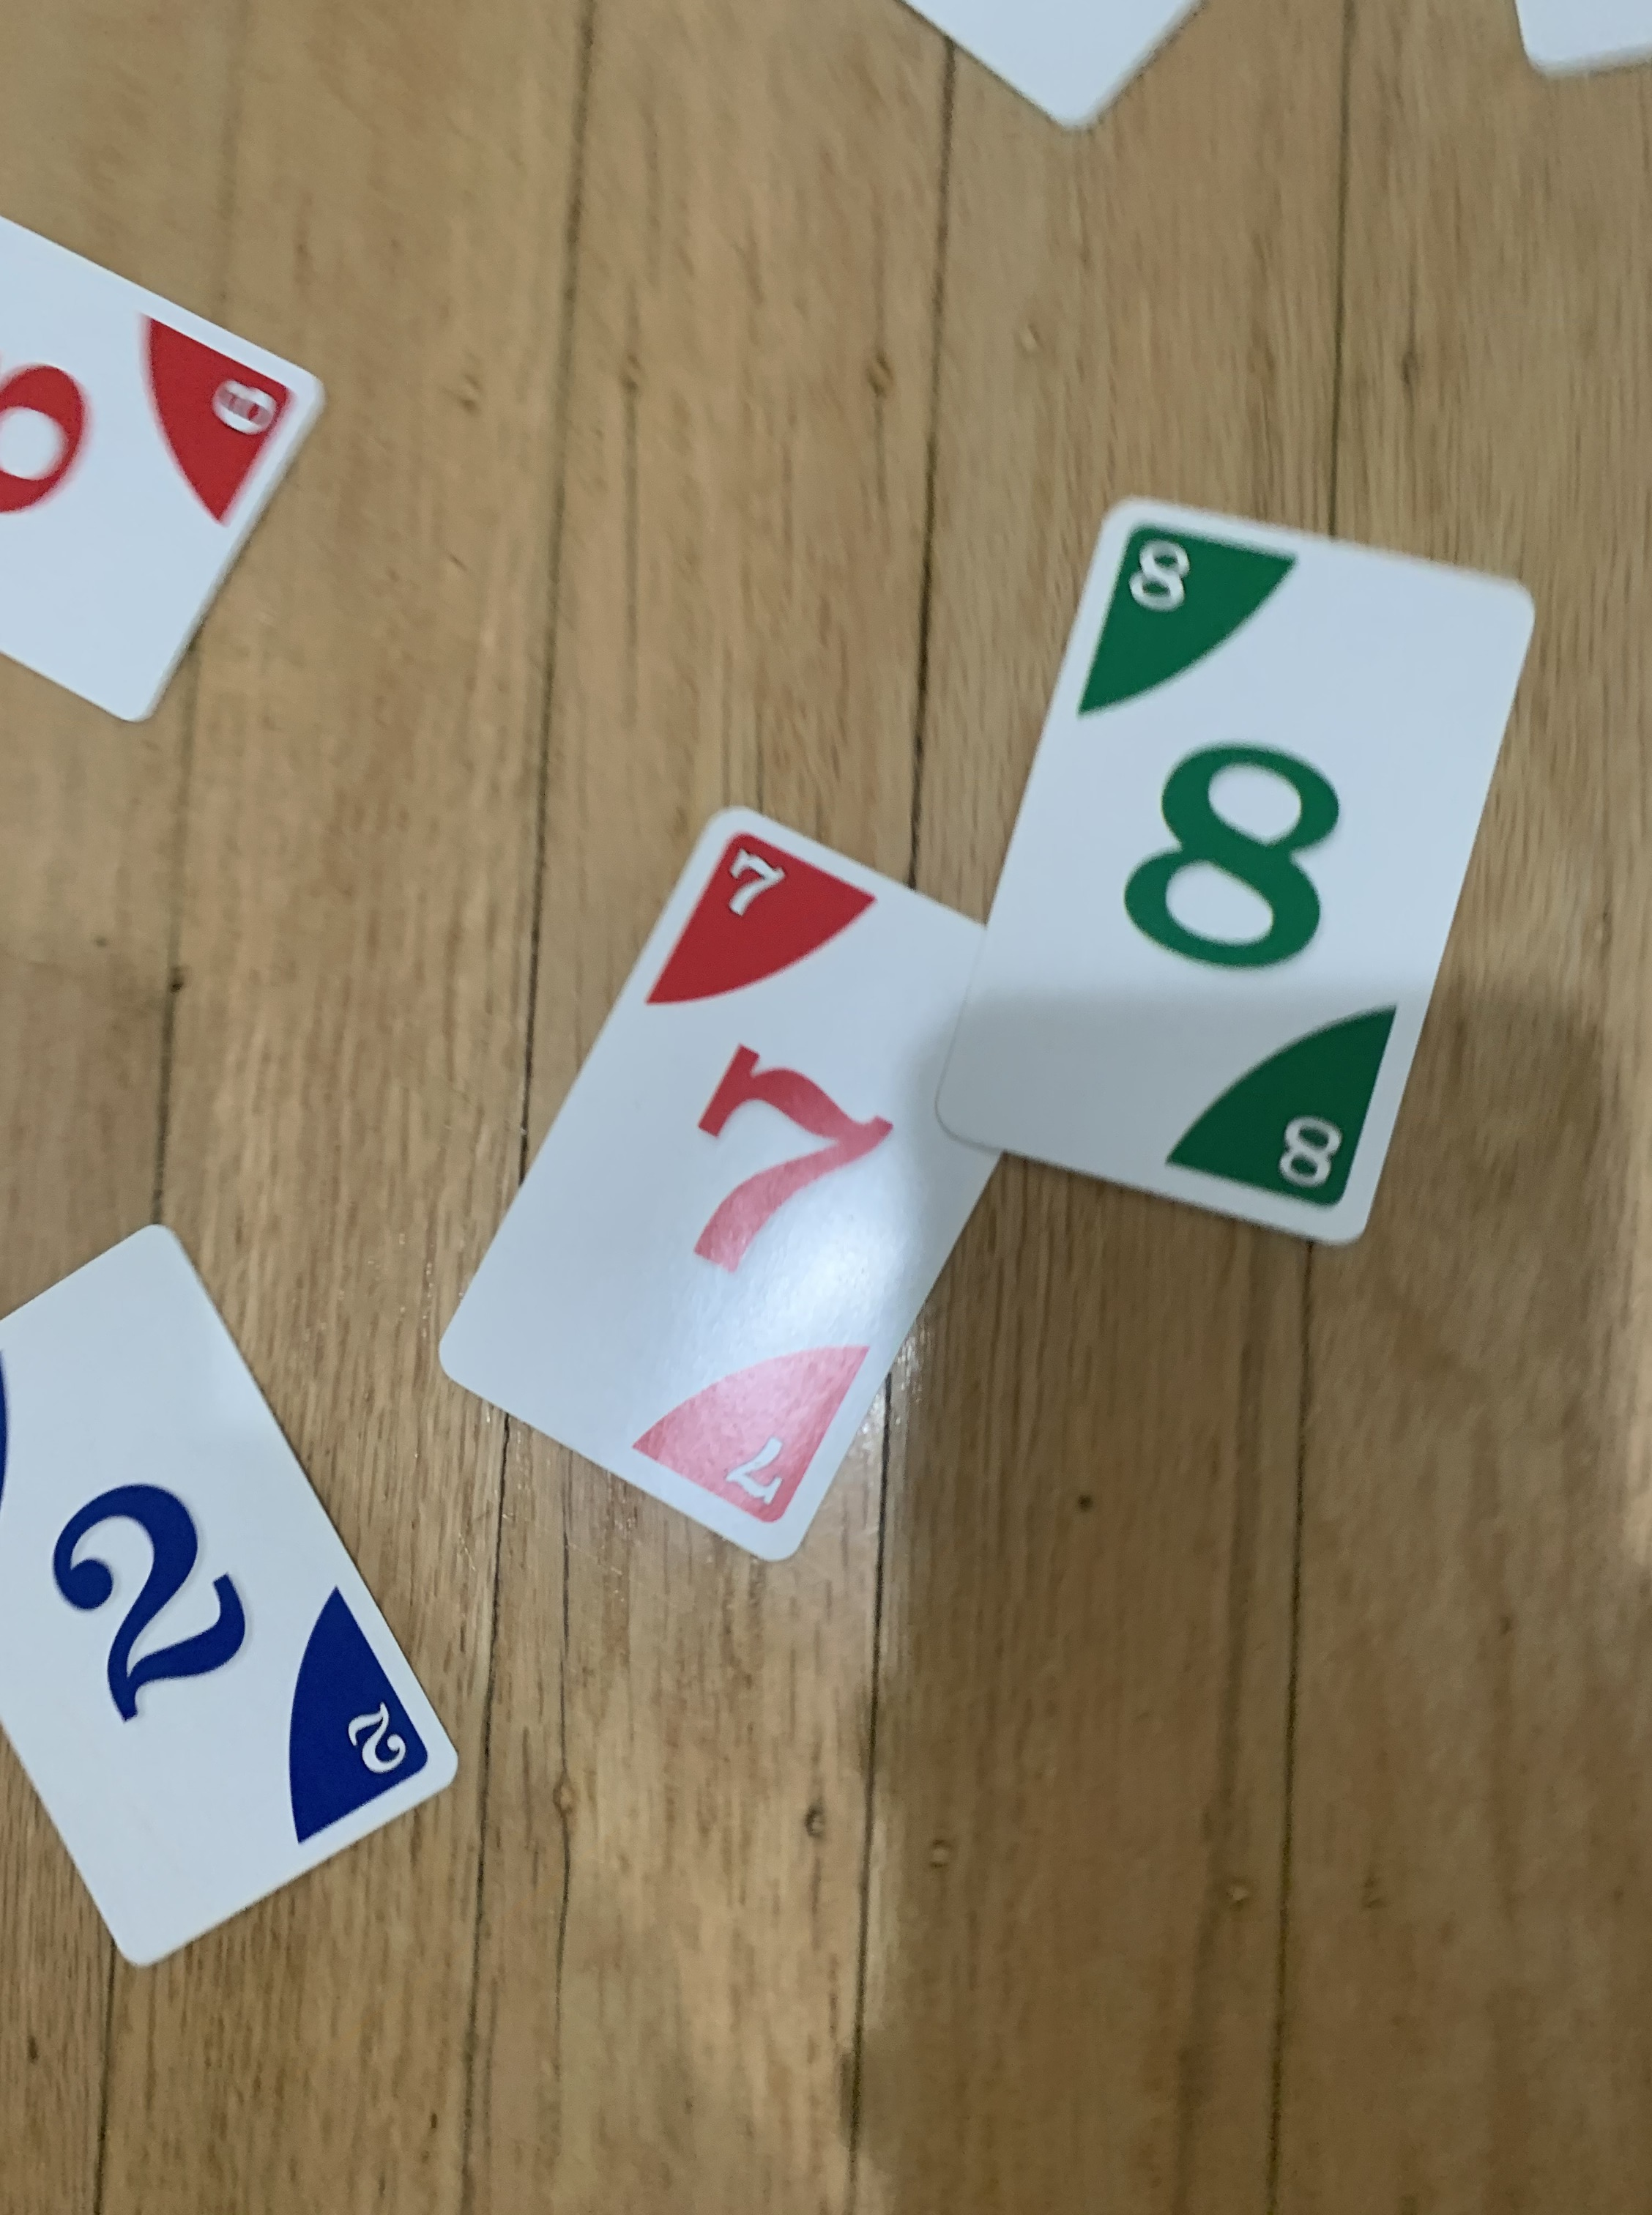eight: (947, 498, 1541, 1252)
seven: (427, 799, 1105, 1573)
two: (0, 1215, 474, 1977)
